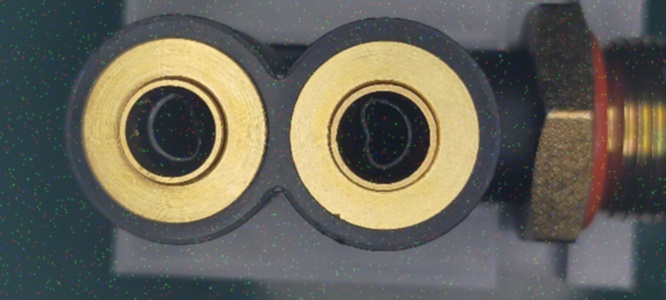off-centered: (349, 97, 421, 172), (144, 92, 211, 163)
